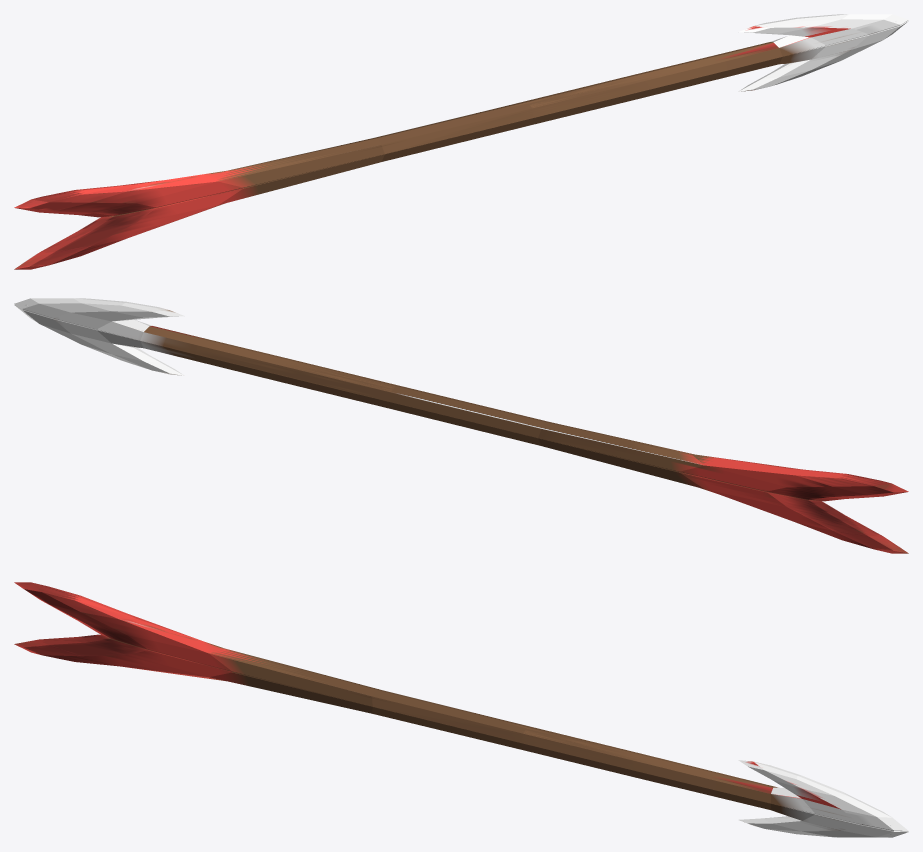
The model's file is Arrow.fbx.
The picture shows the model from 3 angles, top to bottom: view 1: azimuth 30°, elevation 25°; view 2: azimuth 150°, elevation 25°; view 3: azimuth 330°, elevation 25°; orthographic projection.
Visible parts, largest first — view 1: Cube; view 2: Cube; view 3: Cube.
Boxes of the visible parts, box(x1,y1,x2,y2) form: Cube: box(14, 14, 908, 269); Cube: box(14, 298, 908, 553); Cube: box(14, 582, 908, 837).
Size of the model in its own units: 220 by 16.51 by 5.34.
Materials: 1 (1 with a texture image).
